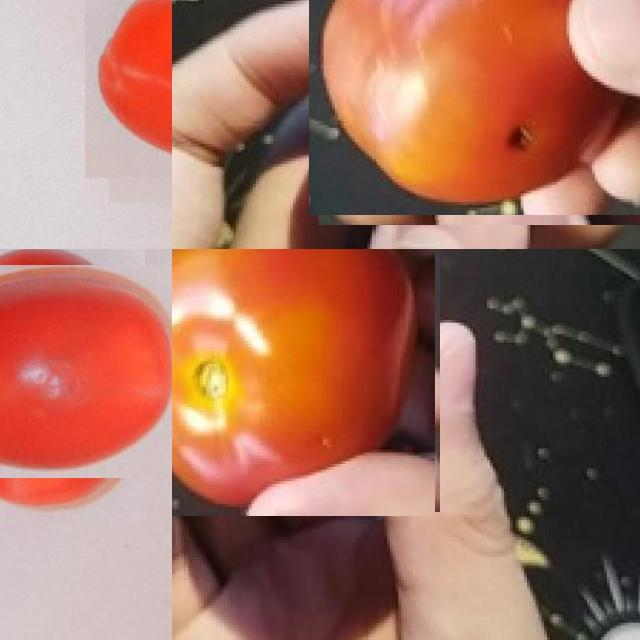Fresh Tomato: (172, 249, 438, 513), (0, 249, 167, 500), (97, 0, 172, 190)
Rotten Tomato: (314, 0, 640, 220)
